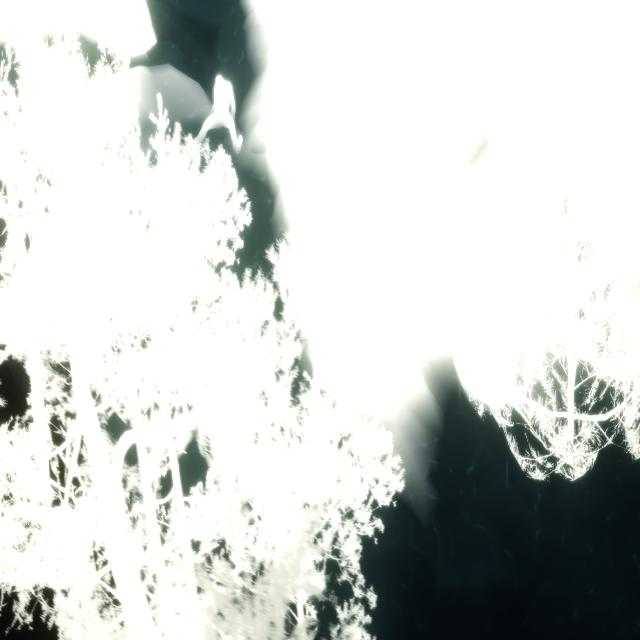Human: (190, 67, 245, 157)
